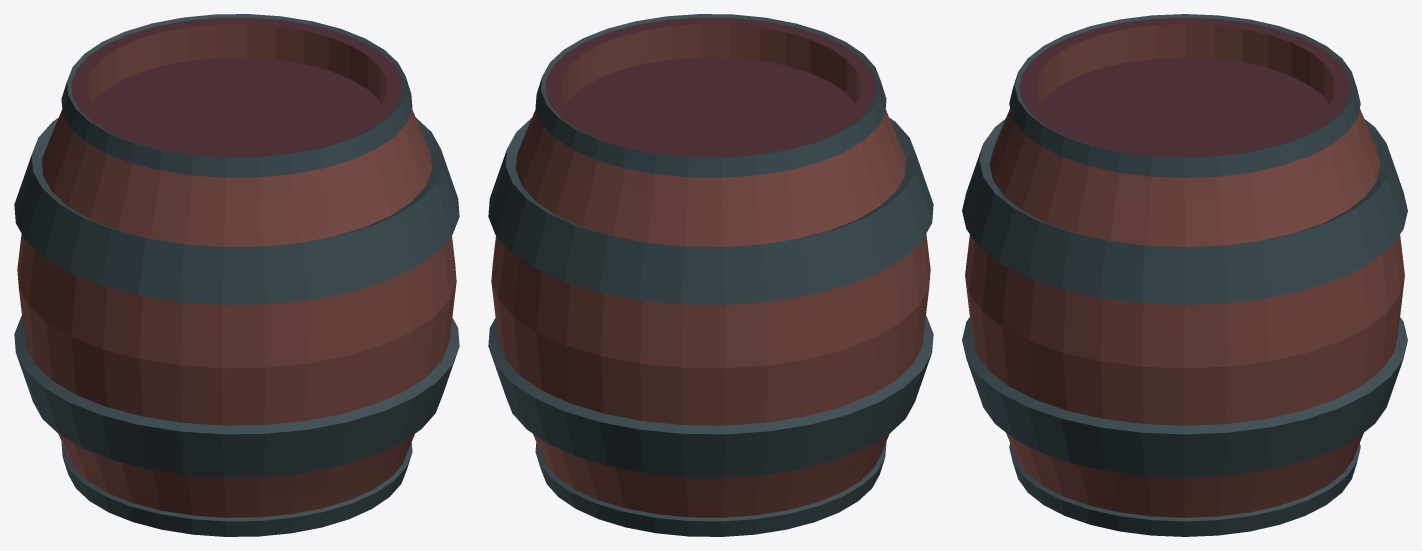
The model's file is Cask.fbx.
The picture shows the model from 3 angles, left to right: view 1: azimuth 30°, elevation 25°; view 2: azimuth 150°, elevation 25°; view 3: azimuth 270°, elevation 25°; orthographic projection.
Visible parts, largest first — view 1: Cylinder; view 2: Cylinder; view 3: Cylinder.
Boxes of the visible parts, x1,y1,x2,y2 form: Cylinder: (14, 14, 459, 536); Cylinder: (488, 14, 933, 536); Cylinder: (962, 14, 1407, 536).
Bounding box in the file's own units: 105 × 98.42 × 105.
